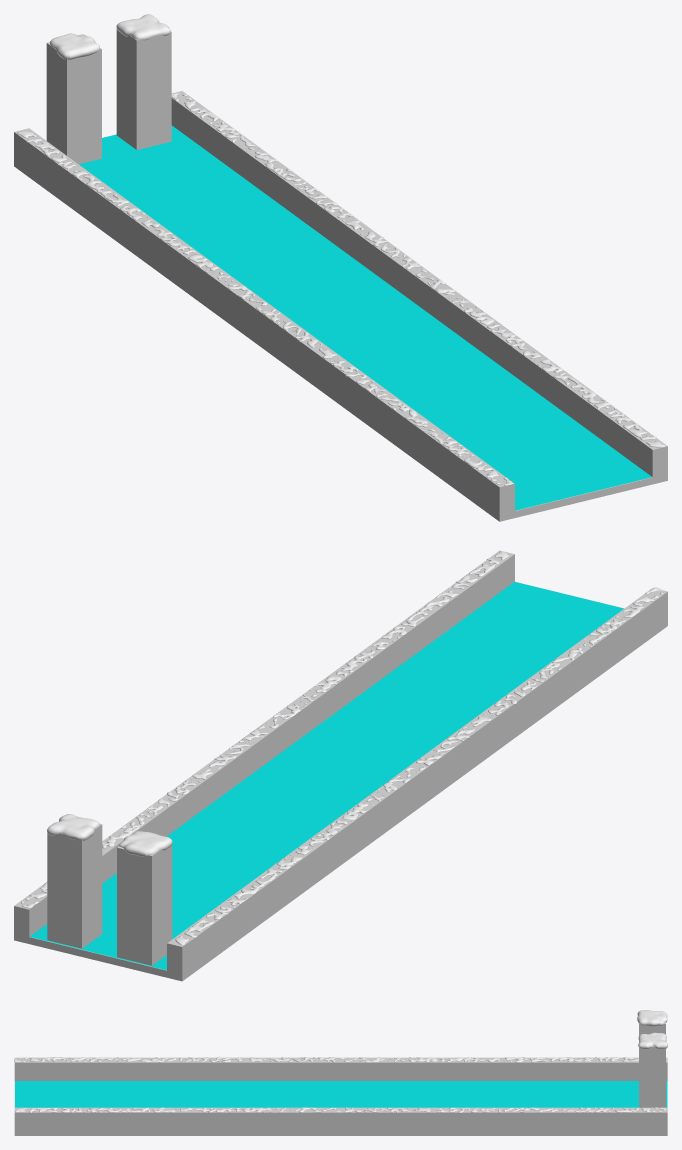
The model's file is Map258.fbx.
3 renders of one model, top to bottom at view 1: azimuth 30°, elevation 25°; view 2: azimuth 150°, elevation 25°; view 3: azimuth 270°, elevation 25°, orthographic. The views are drawn at different scales.
Parts seen in each view (by area): view 1: Plane.001, Cube.001, Cube.002, SnowBall.002, SnowBall.003, SnowBall.001; view 2: Plane.001, Cube.001, Cube.002, SnowBall.003, SnowBall.002, SnowBall.001; view 3: Cube.001, Plane.001, SnowBall.002, SnowBall.003, Cube.002, SnowBall.001.
Boxes of the visible parts, left/top/right/bottom form: Plane.001: left=79, top=125, right=651, bottom=510; Cube.001: left=14, top=91, right=667, bottom=521; Cube.002: left=46, top=28, right=171, bottom=164; SnowBall.002: left=171, top=93, right=665, bottom=447; SnowBall.003: left=17, top=131, right=513, bottom=485; SnowBall.001: left=50, top=14, right=170, bottom=59; Plane.001: left=29, top=581, right=623, bottom=970; Cube.001: left=14, top=550, right=667, bottom=981; Cube.002: left=47, top=824, right=172, bottom=965; SnowBall.003: left=175, top=587, right=662, bottom=945; SnowBall.002: left=21, top=551, right=508, bottom=908; SnowBall.001: left=47, top=814, right=172, bottom=857; Cube.001: left=14, top=1057, right=667, bottom=1135; Plane.001: left=15, top=1081, right=667, bottom=1107; SnowBall.002: left=15, top=1107, right=666, bottom=1113; SnowBall.003: left=14, top=1056, right=638, bottom=1062; Cube.002: left=639, top=1021, right=665, bottom=1107; SnowBall.001: left=637, top=1010, right=667, bottom=1048.
Size of the model in its own units: 244 by 166 by 1204.
